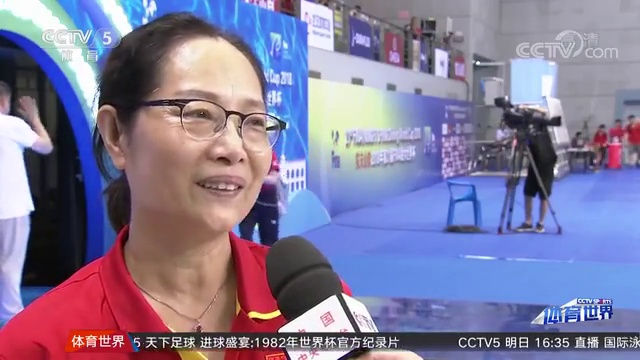face: (130, 36, 269, 225)
